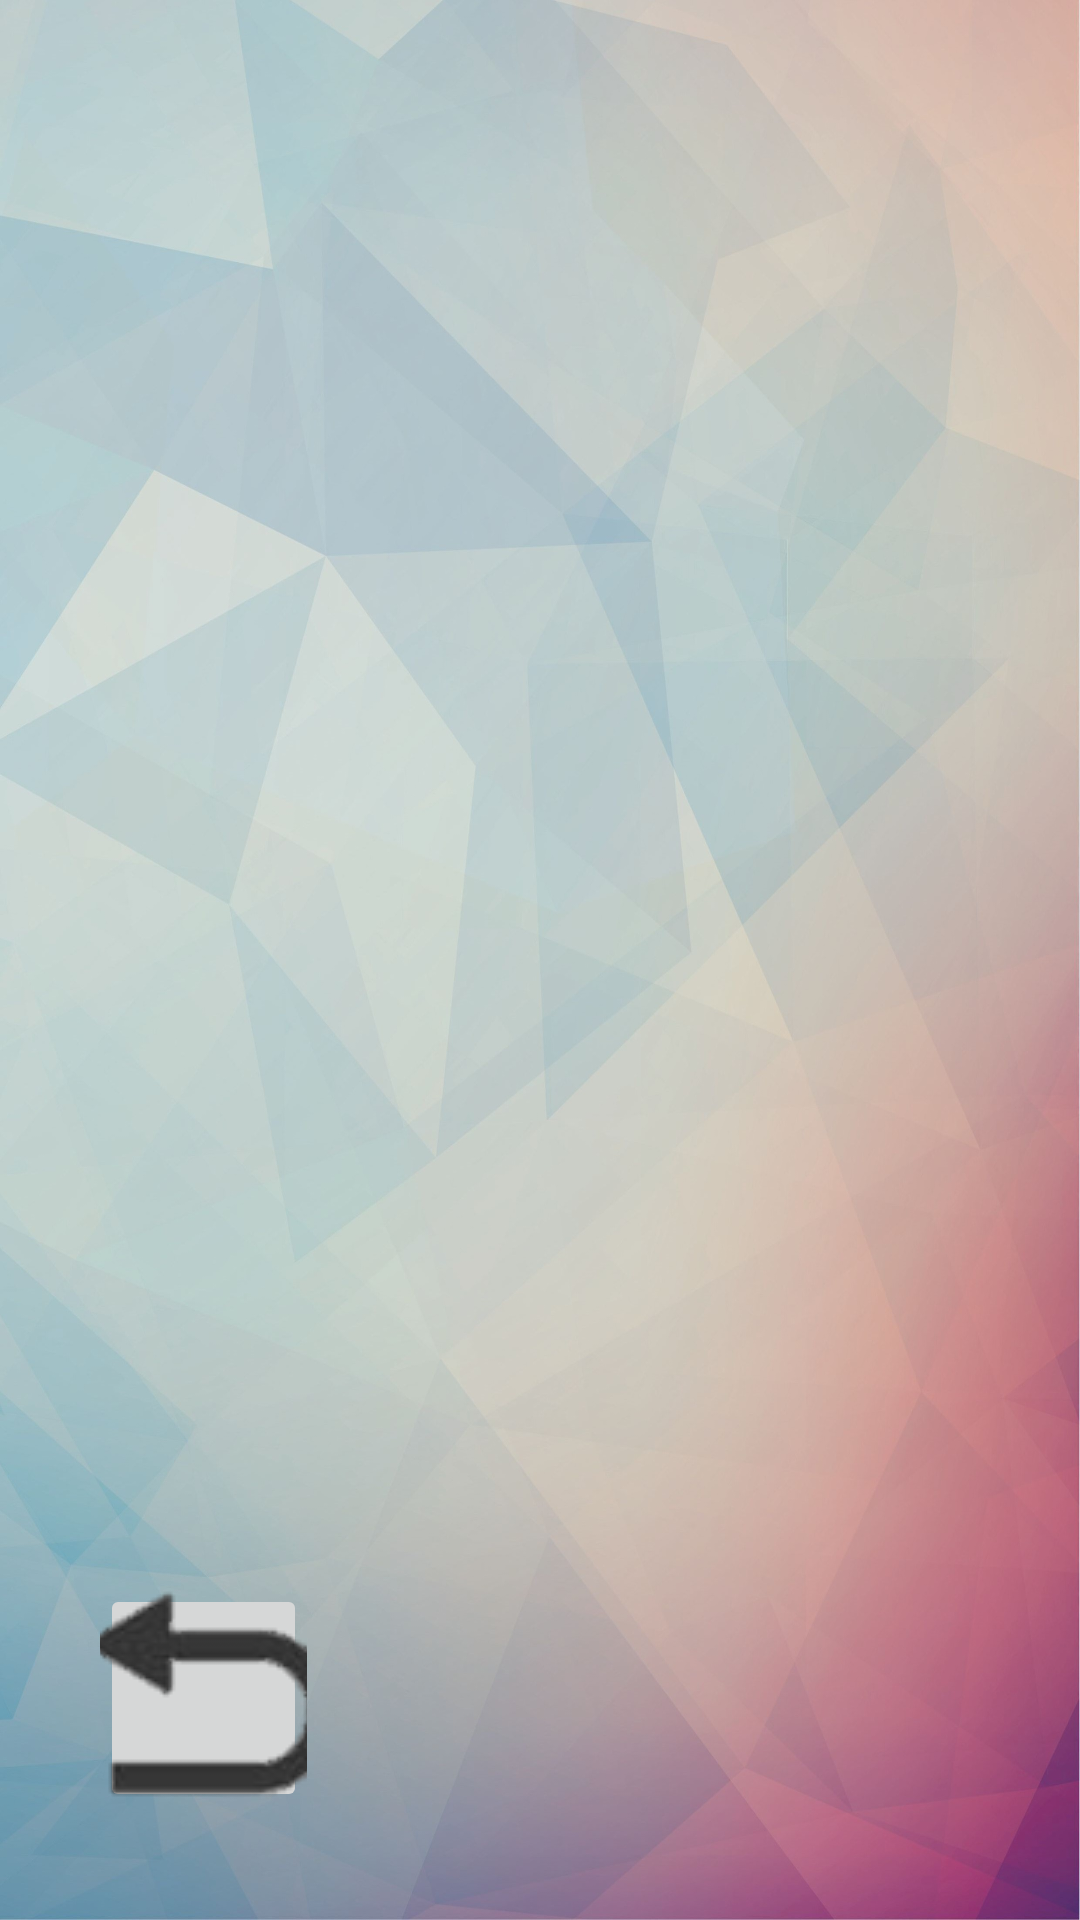

Where to tap for icons on this 1080 × 1920 app screen, as (x,y):
back: (203,1698)
